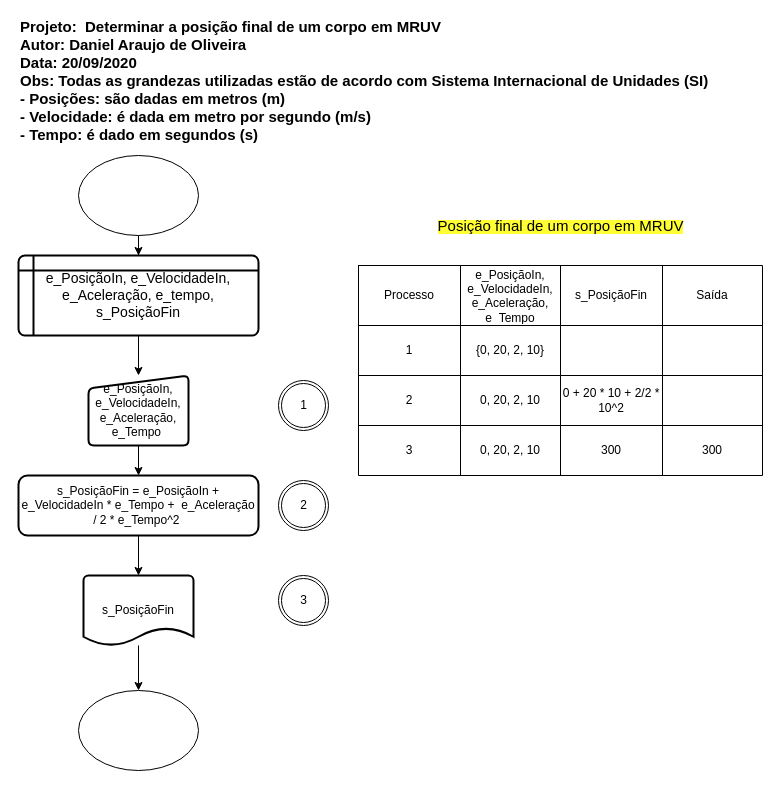
The diagram is 780 pixels wide and 788 high, and some of its shapes have lost their labels. Here are the shapes that lost their labels. From the top down, the centre of each, then its label:
the point at 138,195: Inicio
the point at 138,730: Fim
